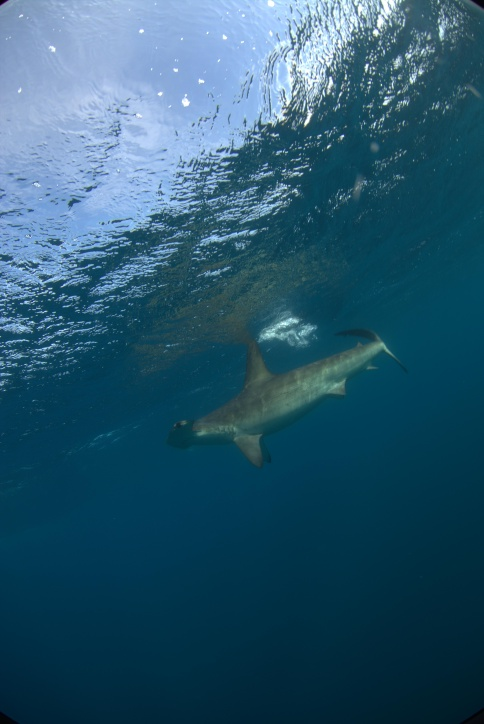Hammer: (151, 302, 433, 501)
